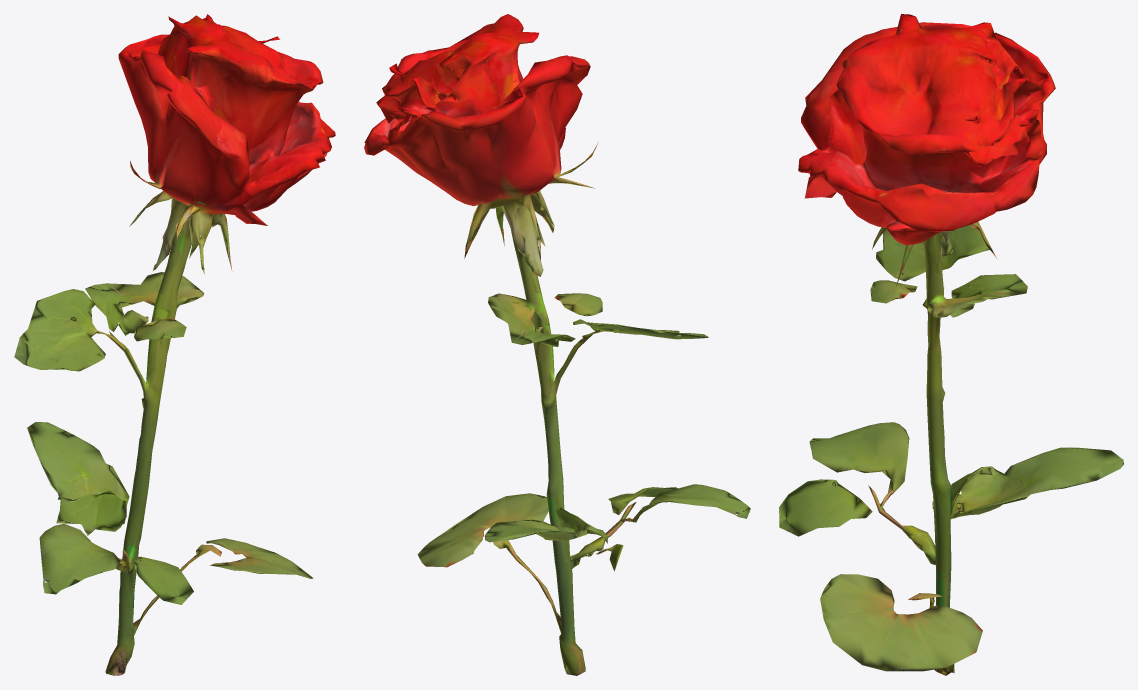
The model's file is field_flower_5.glb.
3 views of the same model, side by side, from view 1: azimuth 30°, elevation 25°; view 2: azimuth 150°, elevation 25°; view 3: azimuth 270°, elevation 25° (orthographic). The views are drawn at different scales.
Bounding box in the file's own units: 1.09 × 1.99 × 0.9057.
1 material, 1 textured.
